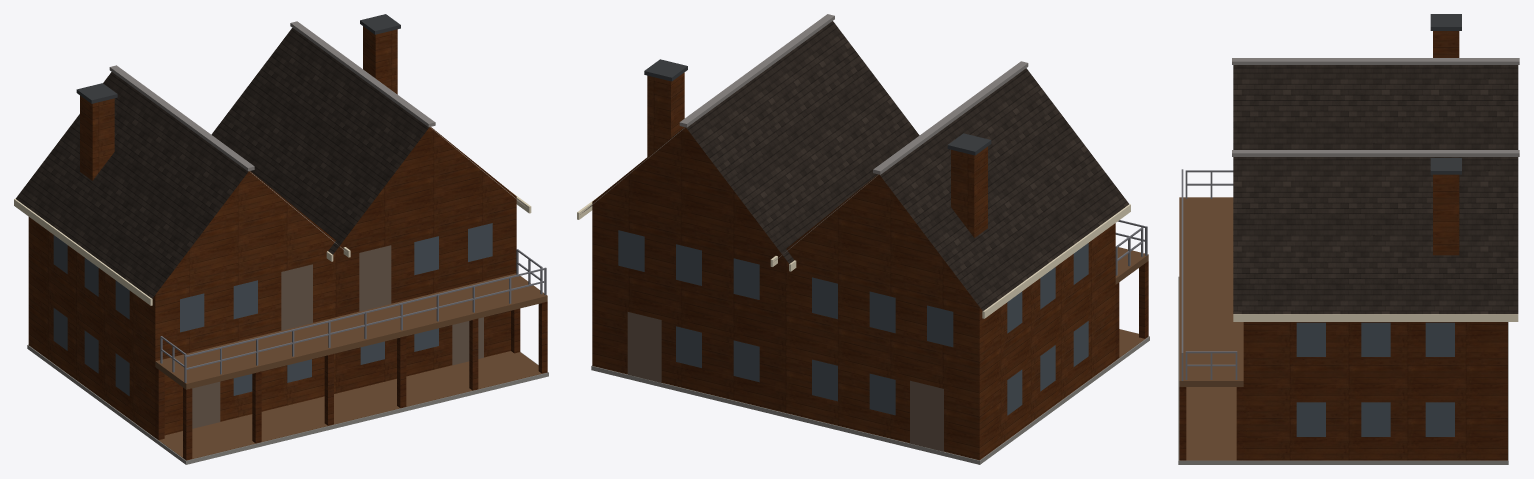
The model's file is rw-cabin-duplex.towns-v1.lod1.glb.
3 views of the same model, side by side, from view 1: azimuth 30°, elevation 25°; view 2: azimuth 150°, elevation 25°; view 3: azimuth 270°, elevation 25° (orthographic). The views are drawn at different scales.
Parts seen in each view (by area): view 1: rw-cabin-duplex; view 2: rw-cabin-duplex; view 3: rw-cabin-duplex.
Boxes of the visible parts, x1,y1,x2,y2 form: rw-cabin-duplex: [14, 14, 548, 464]; rw-cabin-duplex: [577, 14, 1149, 464]; rw-cabin-duplex: [1178, 14, 1519, 464].
Bounding box in the file's own units: 15.58 × 10.54 × 11.63.
Materials: 3 (2 with a texture image).
